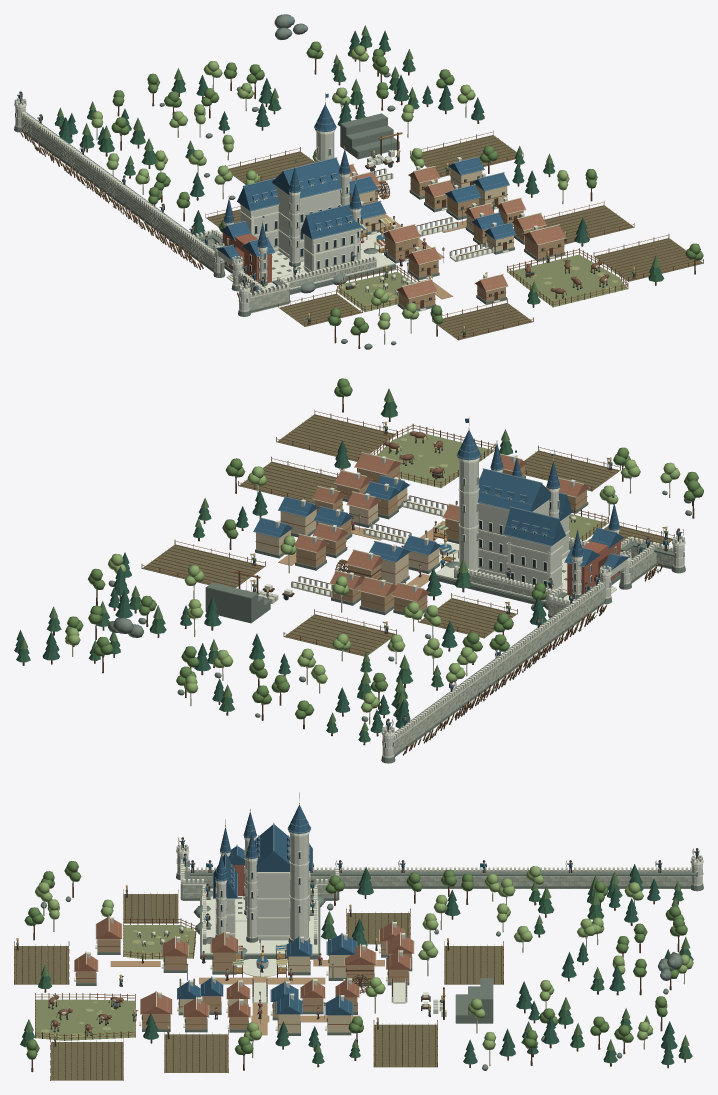
File: royal-castle-v9.glb
3 renders of one model, top to bottom at view 1: azimuth 30°, elevation 25°; view 2: azimuth 150°, elevation 25°; view 3: azimuth 270°, elevation 25°, orthographic. The views are drawn at different scales.
Visible parts, largest first — view 1: royal-castle-v9 Packed camp earth, royal-castle-v9 Blue slate roof, royal-castle-v9 Carved ivory limestone, royal-castle-v9 Alpine white limestone, royal-castle-v9 Dark timber beams, royal-castle-v9 Weathered foundation, royal-castle-v9 Broad oak foliage, royal-castle-v9 Soft meadow birch leaves, royal-castle-v9 Soft grazing meadow, royal-castle-v9 Warm village plaster, royal-castle-v9 Terracotta village tiles, royal-castle-v9 Deep fir needles (+13 smaller); view 2: royal-castle-v9 Packed camp earth, royal-castle-v9 Blue slate roof, royal-castle-v9 Alpine white limestone, royal-castle-v9 Dark timber beams, royal-castle-v9 Carved ivory limestone, royal-castle-v9 Weathered foundation, royal-castle-v9 Soft meadow birch leaves, royal-castle-v9 Broad oak foliage, royal-castle-v9 Deep fir needles, royal-castle-v9 Terracotta village tiles, royal-castle-v9 Warm village plaster, royal-castle-v9 Soft grazing meadow (+13 smaller); view 3: royal-castle-v9 Packed camp earth, royal-castle-v9 Weathered foundation, royal-castle-v9 Alpine white limestone, royal-castle-v9 Carved ivory limestone, royal-castle-v9 Blue slate roof, royal-castle-v9 Terracotta village tiles, royal-castle-v9 Dark timber beams, royal-castle-v9 Warm village plaster, royal-castle-v9 Soft grazing meadow, royal-castle-v9 Soft meadow birch leaves, royal-castle-v9 Broad oak foliage, royal-castle-v9 Deep fir needles (+14 smaller).
Part boxes in pixels (<box>): royal-castle-v9 Packed camp earth: <box>206,135,703,339</box>; royal-castle-v9 Blue slate roof: <box>216,104,515,263</box>; royal-castle-v9 Carved ivory limestone: <box>14,100,554,311</box>; royal-castle-v9 Alpine white limestone: <box>14,98,537,311</box>; royal-castle-v9 Dark timber beams: <box>20,48,703,348</box>; royal-castle-v9 Weathered foundation: <box>14,14,565,349</box>; royal-castle-v9 Broad oak foliage: <box>111,41,703,335</box>; royal-castle-v9 Soft meadow birch leaves: <box>91,45,569,329</box>; royal-castle-v9 Soft grazing meadow: <box>338,254,627,311</box>; royal-castle-v9 Warm village plaster: <box>375,177,609,308</box>; royal-castle-v9 Terracotta village tiles: <box>349,165,566,298</box>; royal-castle-v9 Deep fir needles: <box>59,30,589,243</box>; royal-castle-v9 Packed camp earth: <box>142,414,672,656</box>; royal-castle-v9 Blue slate roof: <box>254,430,628,580</box>; royal-castle-v9 Alpine white limestone: <box>245,457,684,758</box>; royal-castle-v9 Dark timber beams: <box>22,396,694,745</box>; royal-castle-v9 Carved ivory limestone: <box>264,455,685,757</box>; royal-castle-v9 Weathered foundation: <box>65,476,691,763</box>; royal-castle-v9 Soft meadow birch leaves: <box>65,459,680,712</box>; royal-castle-v9 Broad oak foliage: <box>65,378,703,719</box>; royal-castle-v9 Deep fir needles: <box>14,440,546,732</box>; royal-castle-v9 Terracotta village tiles: <box>294,453,589,601</box>; royal-castle-v9 Warm village plaster: <box>278,434,586,611</box>; royal-castle-v9 Soft grazing meadow: <box>376,431,608,542</box>; royal-castle-v9 Packed camp earth: <box>14,894,503,1080</box>; royal-castle-v9 Weathered foundation: <box>41,853,703,1070</box>; royal-castle-v9 Alpine white limestone: <box>87,834,702,1016</box>; royal-castle-v9 Carved ivory limestone: <box>74,831,703,1030</box>; royal-castle-v9 Blue slate roof: <box>177,805,367,1015</box>; royal-castle-v9 Terracotta village tiles: <box>75,917,413,1017</box>; royal-castle-v9 Dark timber beams: <box>14,840,698,1080</box>; royal-castle-v9 Warm village plaster: <box>57,939,411,1035</box>; royal-castle-v9 Soft grazing meadow: <box>35,925,195,1040</box>; royal-castle-v9 Soft meadow birch leaves: <box>35,866,693,1049</box>; royal-castle-v9 Broad oak foliage: <box>24,861,687,1059</box>; royal-castle-v9 Deep fir needles: <box>143,864,677,1065</box>.
Size of the model in its own units: 53.58 by 19.17 by 75.78.
